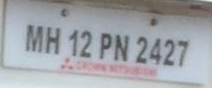character: (24, 23, 43, 54), (113, 33, 130, 63), (44, 25, 60, 56), (148, 37, 162, 64), (98, 31, 111, 60), (176, 39, 189, 67), (134, 36, 147, 63), (161, 39, 174, 66), (79, 29, 91, 58), (68, 29, 78, 57)
